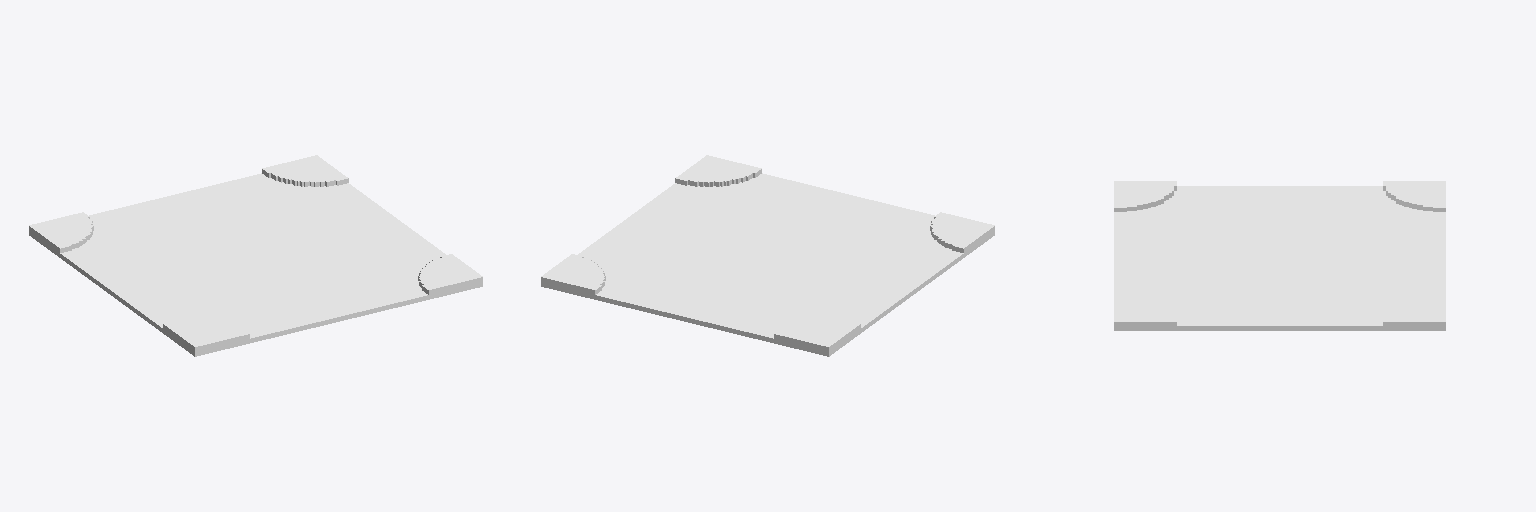
The model's file is roads-5.obj.
3 renders of one model, left to right at view 1: azimuth 30°, elevation 25°; view 2: azimuth 150°, elevation 25°; view 3: azimuth 270°, elevation 25°, orthographic.
Parts seen in each view (by area): view 1: object 1; view 2: object 1; view 3: object 1.
Boxes of the visible parts, x1,y1,x2,y2 form: object 1: [29, 155, 482, 356]; object 1: [541, 155, 994, 356]; object 1: [1114, 181, 1445, 330].
Size of the model in its own units: 12.6 by 0.4 by 12.6.